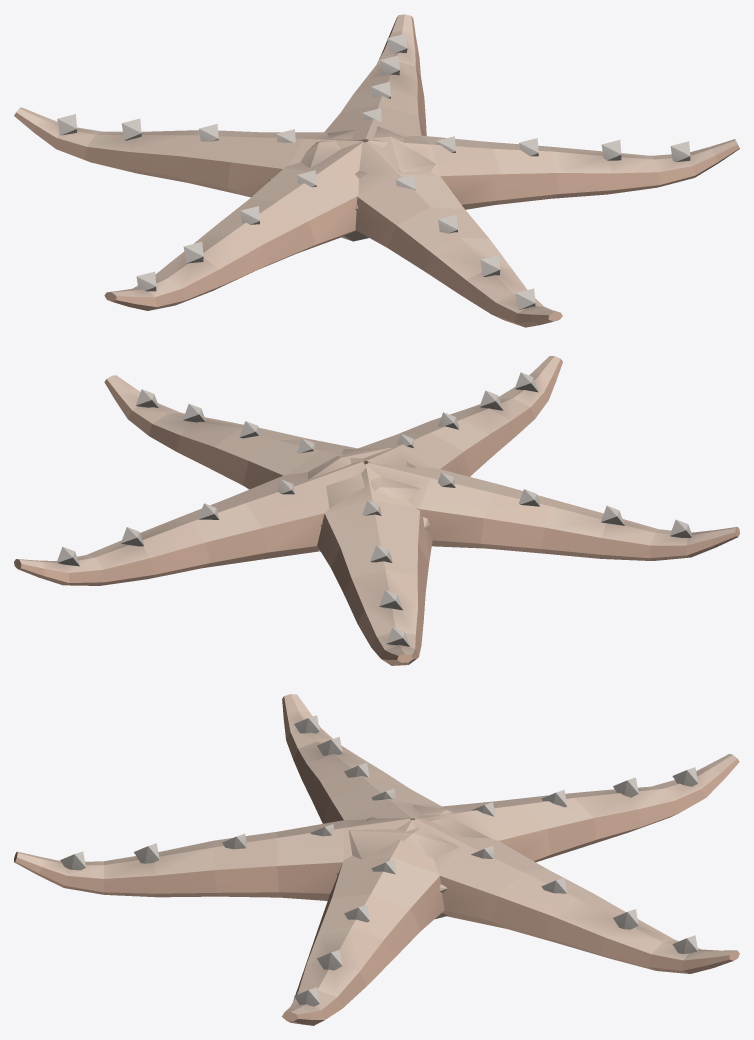
The model's file is starfish.glb.
The picture shows the model from 3 angles, top to bottom: view 1: azimuth 30°, elevation 25°; view 2: azimuth 150°, elevation 25°; view 3: azimuth 270°, elevation 25°; orthographic projection. The views are drawn at different scales.
Parts seen in each view (by area): view 1: base; view 2: base; view 3: base.
Boxes of the visible parts, x1,y1,x2,y2 form: base: (14, 14, 739, 327); base: (14, 356, 739, 665); base: (14, 694, 739, 1025).
Size of the model in its own units: 0.2588 by 0.0321 by 0.2467.
